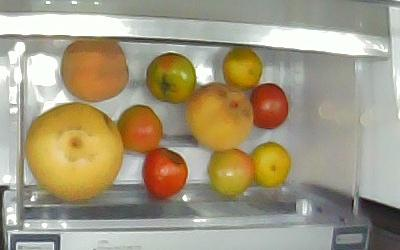peach: (184, 83, 253, 151), (60, 39, 130, 103)
pear: (27, 102, 124, 200)
tangerine: (250, 142, 289, 186), (223, 47, 263, 89)
tomato: (146, 53, 196, 103), (141, 148, 187, 197), (209, 148, 253, 197), (118, 104, 162, 153), (251, 83, 289, 129)
